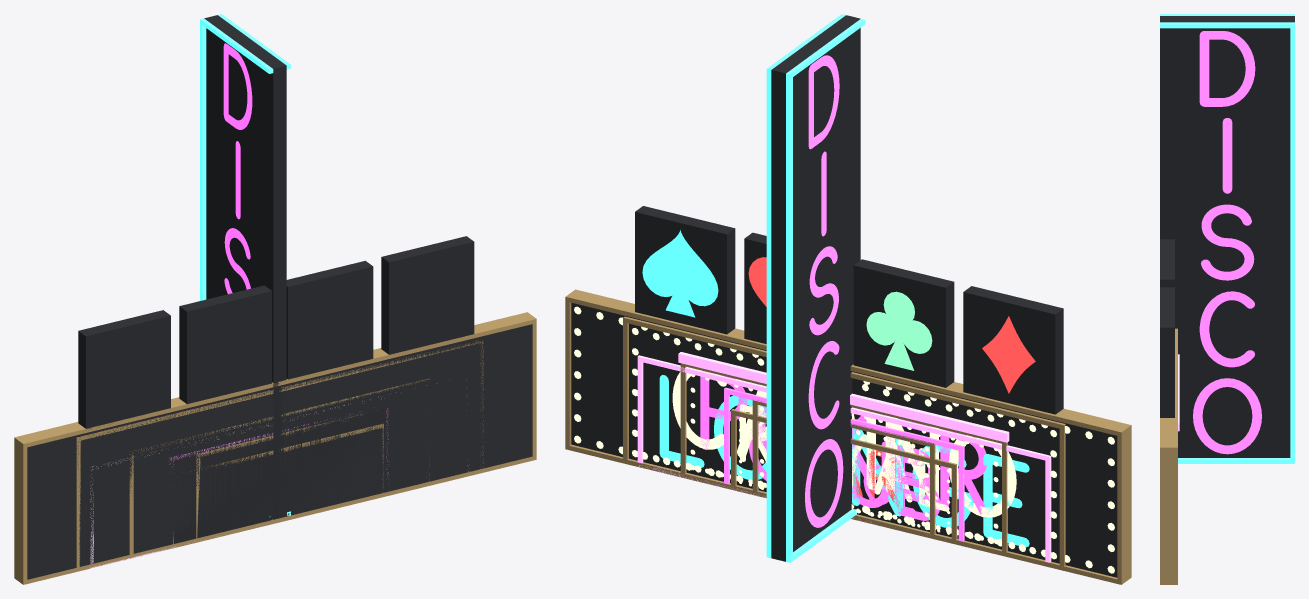
The model's file is vegas_signs.glb.
3 views of the same model, side by side, from view 1: azimuth 30°, elevation 25°; view 2: azimuth 150°, elevation 25°; view 3: azimuth 270°, elevation 25° (orthographic). The views are drawn at different scales.
Parts seen in each view (by area): view 1: vegas_sign_casino, vegas_sign_poker, vegas_sign_disco, vegas_sign_club, vegas_sign_royal, vegas_sign_lounge, vegas_sign_dance, vegas_sign_bar; view 2: vegas_sign_poker, vegas_sign_disco, vegas_sign_casino, vegas_sign_lounge, vegas_sign_royal, vegas_sign_club, vegas_sign_dance, vegas_sign_bar; view 3: vegas_sign_disco, vegas_sign_casino, vegas_sign_poker.
Boxes of the visible parts, <box> form: vegas_sign_casino: <box>14,312,536,584</box>; vegas_sign_poker: <box>76,236,483,571</box>; vegas_sign_disco: <box>200,14,290,519</box>; vegas_sign_club: <box>169,408,388,543</box>; vegas_sign_royal: <box>129,378,429,554</box>; vegas_sign_lounge: <box>90,380,468,568</box>; vegas_sign_dance: <box>176,423,383,547</box>; vegas_sign_bar: <box>196,414,363,540</box>; vegas_sign_poker: <box>623,206,1065,570</box>; vegas_sign_disco: <box>766,14,865,562</box>; vegas_sign_casino: <box>565,289,1131,584</box>; vegas_sign_lounge: <box>637,355,1051,562</box>; vegas_sign_royal: <box>678,352,1009,552</box>; vegas_sign_club: <box>724,387,964,541</box>; vegas_sign_dance: <box>731,409,957,539</box>; vegas_sign_bar: <box>752,400,935,536</box>; vegas_sign_disco: <box>1160,14,1294,463</box>; vegas_sign_casino: <box>1160,328,1177,584</box>; vegas_sign_poker: <box>1160,239,1174,417</box>.
Size of the model in its own units: 1.93 by 1.64 by 0.45.
